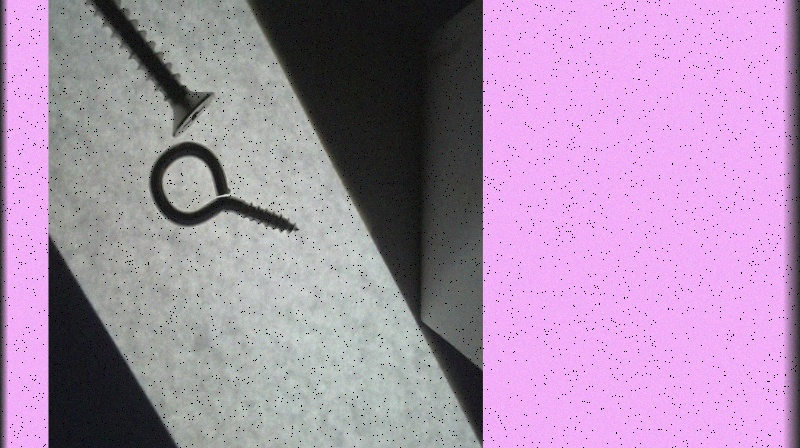O001: (150, 141, 304, 243)
S001: (73, 0, 216, 139)
